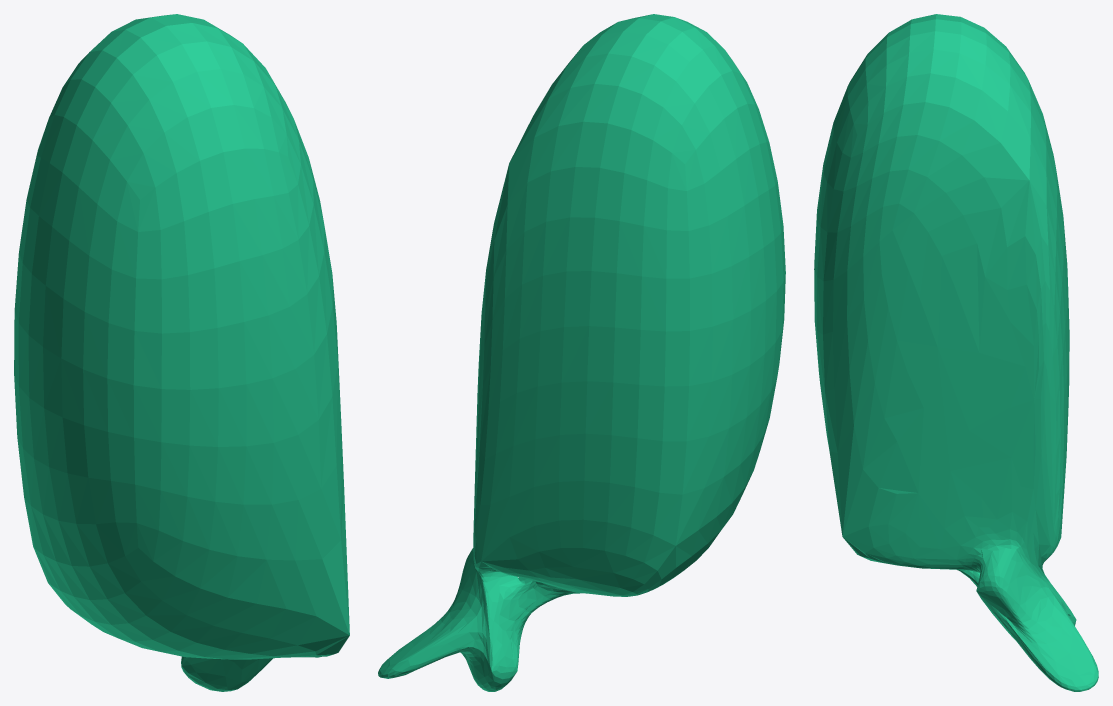
3 views of the same model, side by side, from view 1: azimuth 30°, elevation 25°; view 2: azimuth 150°, elevation 25°; view 3: azimuth 270°, elevation 25° (orthographic). The views are drawn at different scales.
Parts seen in each view (by area): view 1: 063_Cube.258; view 2: 063_Cube.258; view 3: 063_Cube.258.
Part boxes in pixels (bbox=[...]): 063_Cube.258: bbox=[14, 14, 349, 691]; 063_Cube.258: bbox=[378, 14, 785, 691]; 063_Cube.258: bbox=[814, 14, 1098, 691].
Size of the model in its own units: 6.49 by 13.01 by 5.7.
